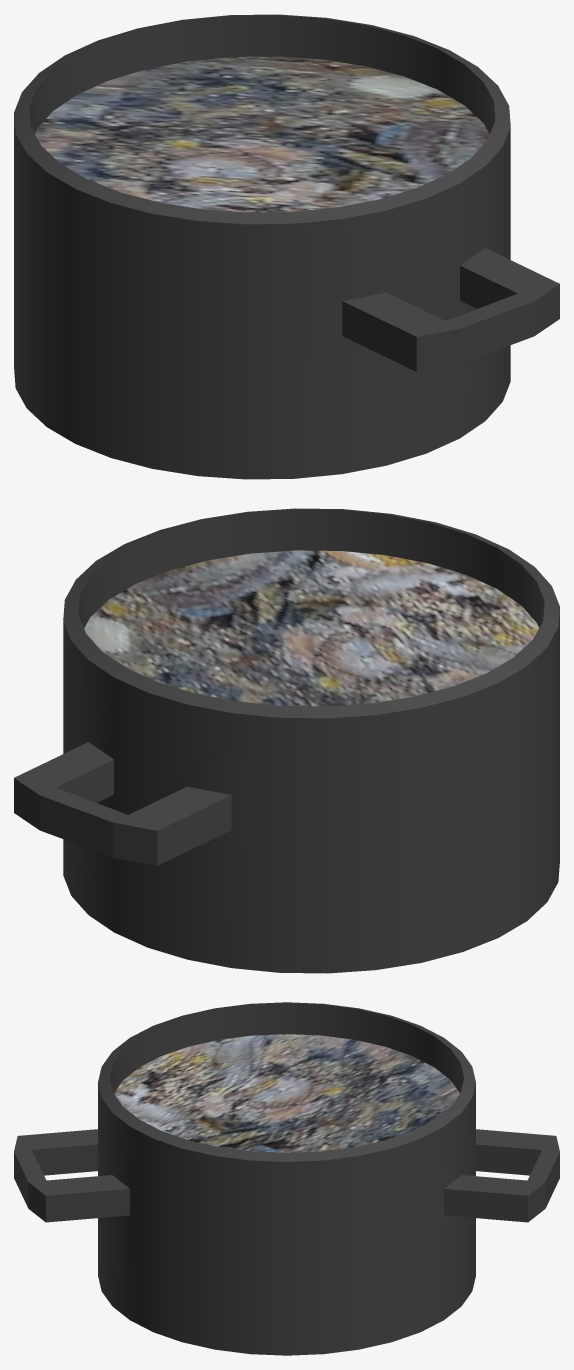
The model's file is food.fbx.
3 views of the same model, one above another, from view 1: azimuth 30°, elevation 25°; view 2: azimuth 150°, elevation 25°; view 3: azimuth 270°, elevation 25° (orthographic). The views are drawn at different scales.
Parts seen in each view (by area): view 1: Cylinder; view 2: Cylinder; view 3: Cylinder.
Boxes of the visible parts, x1,y1,x2,y2 form: Cylinder: (14,14,559,479); Cylinder: (14,508,559,973); Cylinder: (14,1002,559,1355).
Size of the model in its own units: 200 by 116 by 289.
2 materials, 1 textured.
